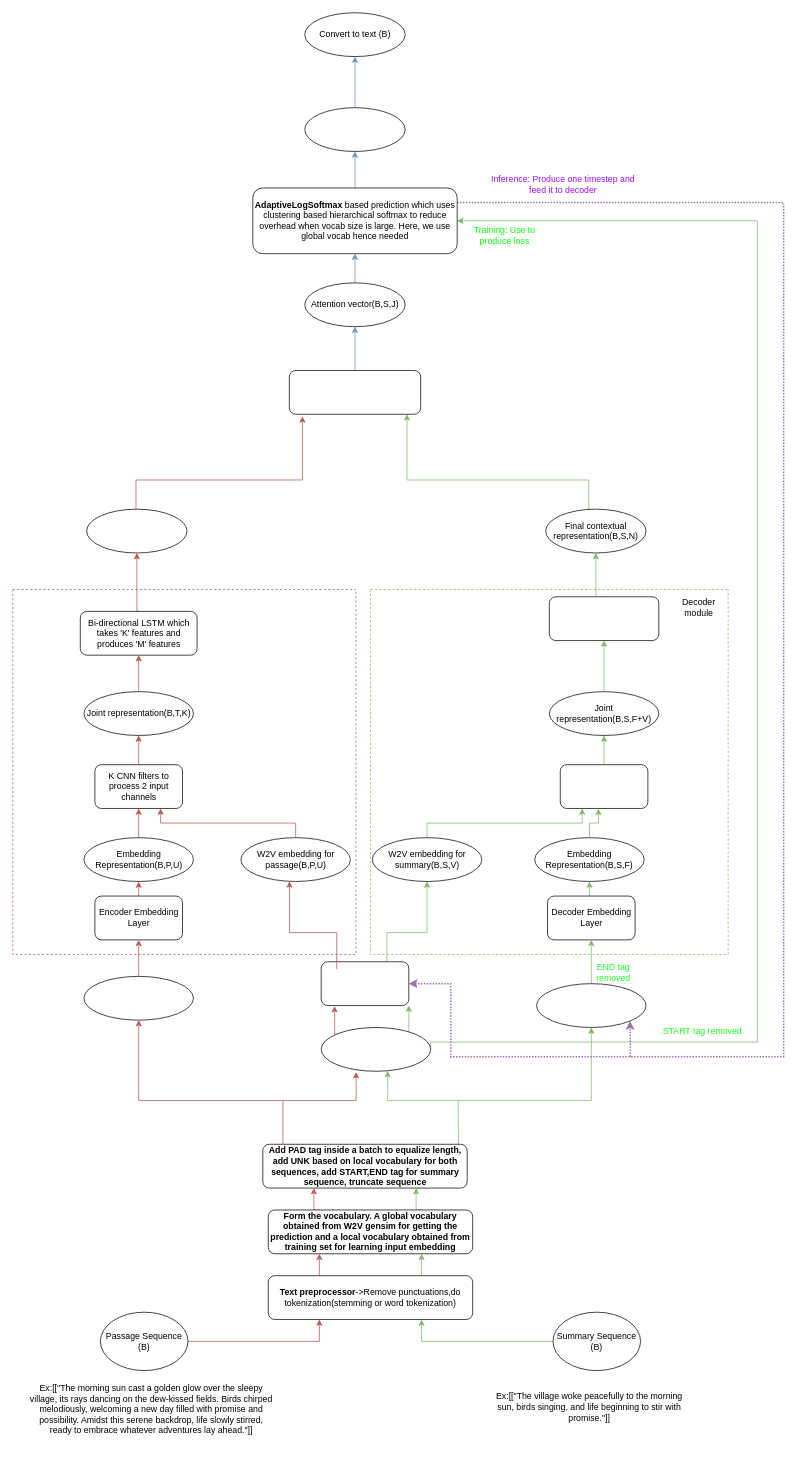
Image size: 803x1459. Some labels were removed from this diagram. The shapes that lost their labels are listed below. From the top down, each one's centre as x and y in pixels, then its label:
At (354,129): "Global vocab indexed vector(B,S)".
At (355,392): "Multi-head attention: Each decoder timestep attends to all encoder timesteps".
At (136,530): "Final contextual representation(B,T,M)".
At (604,618): "LSTM which takes 'U+V' features and produces 'N' features".
At (184,771): "Encoder module".
At (604,786): "Concatenate along first dim".
At (138,998): "Local Vocab-indexed seq (B,P)".
At (364,983): "Word2Vec gensim".
At (591,1005): "Local Vocab-indexed seq (B,S)".
At (375,1049): "Global Vocab-indexed seq (B,P) and (B,S)".
